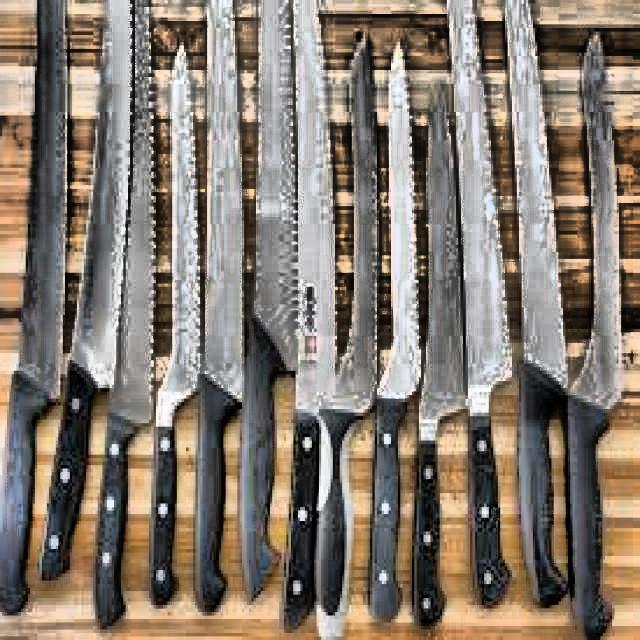knife: (35, 0, 140, 590), (310, 27, 383, 640), (444, 0, 516, 612), (0, 0, 73, 601), (91, 0, 158, 630), (505, 0, 573, 602), (360, 45, 424, 624), (277, 0, 335, 630), (241, 0, 303, 588), (570, 30, 630, 634), (144, 32, 206, 616), (188, 0, 246, 619), (414, 95, 471, 631)
